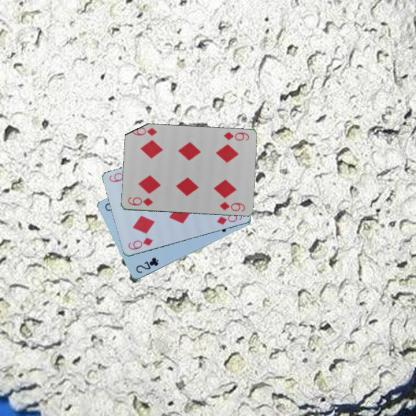2c: (133, 255, 159, 274)
6d: (125, 235, 154, 251), (125, 195, 154, 207), (221, 130, 250, 142)
